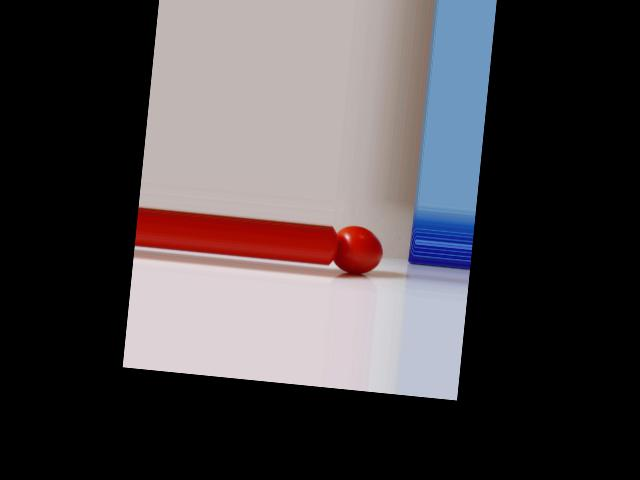tomato: (333, 224, 385, 276)
